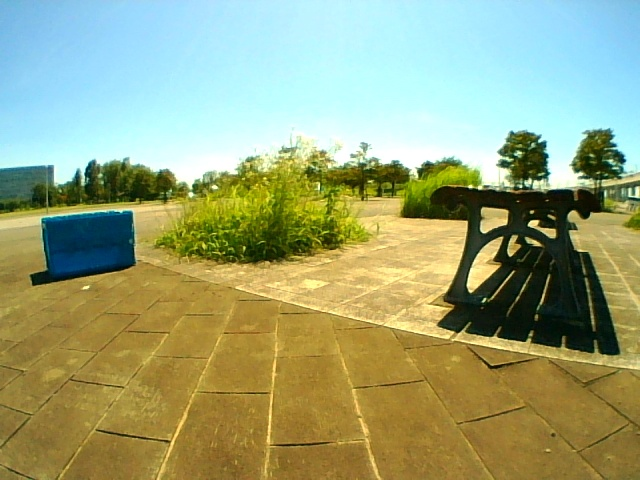blue_box: (39, 217, 133, 275)
